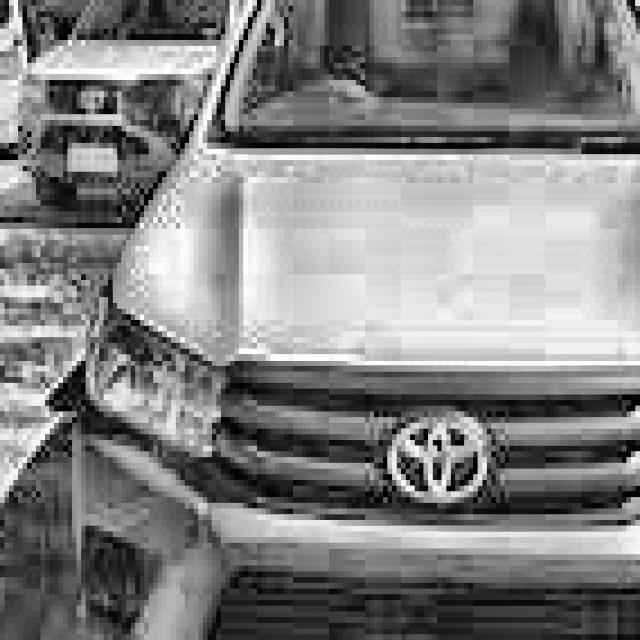light_vehicle: (63, 0, 640, 640)
